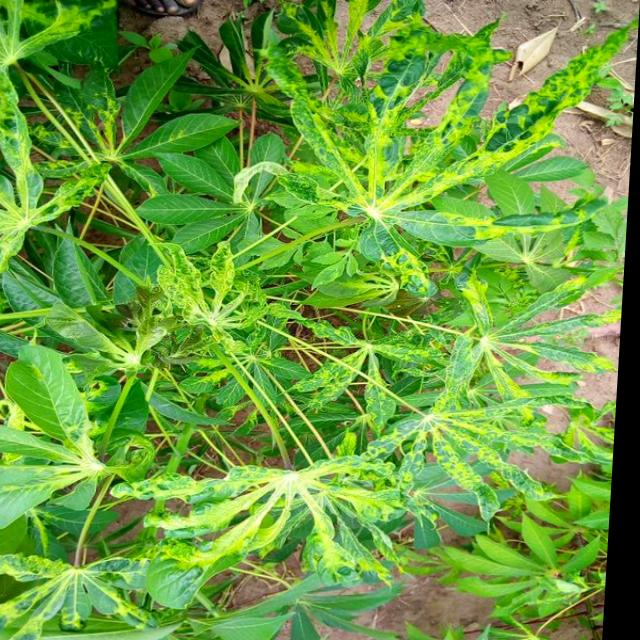Mosaico: (277, 101, 584, 312), (158, 459, 482, 608), (261, 0, 500, 163), (0, 24, 104, 264), (130, 224, 296, 372), (261, 293, 435, 428), (396, 372, 551, 512)
